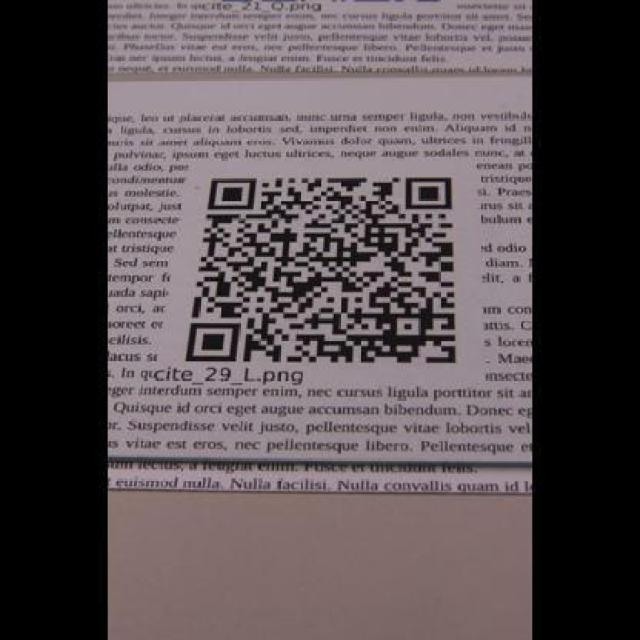QRCode: (177, 167, 468, 367)
